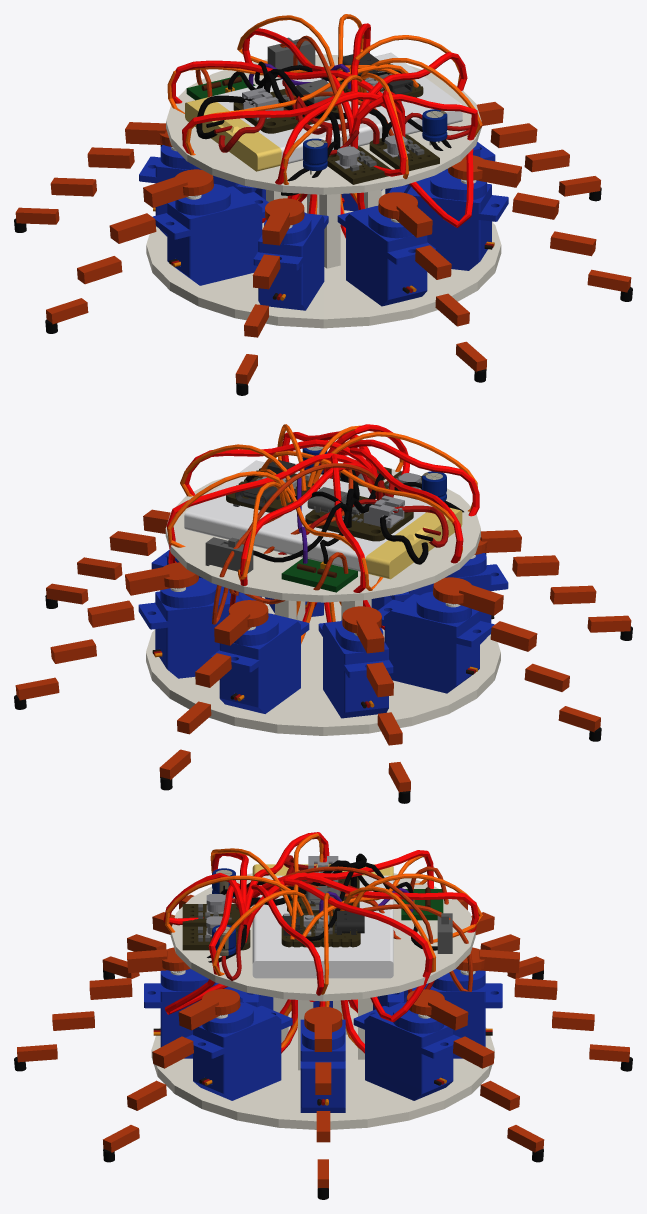
The model's file is octo-v10.glb.
3 renders of one model, top to bottom at view 1: azimuth 30°, elevation 25°; view 2: azimuth 150°, elevation 25°; view 3: azimuth 270°, elevation 25°, orthographic. The views are drawn at different scales.
Visible parts, largest first — view 1: v10 紧凑骨架 (×3), 导线（35 根） (×18), 6 号触手舵机 SG51R, 4 号触手舵机 SG51R, 1200 mAh 单节 LiPo（Adafruit 258）, 3 号触手舵机 SG51R, 5 号触手舵机 SG51R, 6 号短触手 (×5), 4 号短触手 (×5), 3 号短触手 (×4), 7 号短触手 (×4), 5 号短触手 (×4) (+10 smaller); view 2: v10 紧凑骨架 (×2), 导线（35 根） (×19), 1200 mAh 单节 LiPo（Adafruit 258）, 6 号触手舵机 SG51R, 0 号触手舵机 SG51R, 1 号触手舵机 SG51R, 7 号触手舵机 SG51R, 6 号短触手 (×5), 1 号短触手 (×5), 0 号短触手 (×5), 5 号短触手 (×4), 2 号短触手 (×4) (+7 smaller); view 3: v10 紧凑骨架 (×2), 导线（35 根） (×17), 3 号触手舵机 SG51R, 1200 mAh 单节 LiPo（Adafruit 258）, 1 号触手舵机 SG51R, 3 号短触手 (×5), 1 号短触手 (×5), 0 号短触手 (×4), 4 号短触手 (×4), 0 号触手舵机 SG51R, 2 号触手舵机 SG51R, 4 号触手舵机 SG51R (+9 smaller).
Boxes of the visible parts, x1,y1,x2,y2 form: v10 紧凑骨架 (×3): (146,54,501,328); 导线（35 根） (×18): (167,15,482,238); 6 号触手舵机 SG51R: (152,184,268,285); 4 号触手舵机 SG51R: (337,206,435,306); 1200 mAh 单节 LiPo（Adafruit 258）: (185,52,462,171); 3 号触手舵机 SG51R: (389,170,508,270); 5 号触手舵机 SG51R: (253,212,328,310); 6 号短触手 (×5): (46,169,213,324); 4 号短触手 (×5): (378,192,486,372); 3 号短触手 (×4): (476,159,631,292); 7 号短触手 (×4): (15,122,166,224); 5 号短触手 (×4): (244,198,304,337); v10 紧凑骨架 (×2): (146,463,500,735); 导线（35 根） (×19): (166,424,479,643); 1200 mAh 单节 LiPo（Adafruit 258）: (184,460,462,579); 6 号触手舵机 SG51R: (378,591,494,693); 0 号触手舵机 SG51R: (211,613,309,713); 1 号触手舵机 SG51R: (138,578,255,678); 7 号触手舵机 SG51R: (318,620,393,718); 6 号短触手 (×5): (433,577,600,732); 1 号短触手 (×5): (15,562,198,700); 0 号短触手 (×5): (159,600,268,780); 5 号短触手 (×4): (480,530,631,632); 2 号短触手 (×4): (46,509,170,604); v10 紧凑骨架 (×2): (151,873,494,1129); 导线（35 根） (×17): (163,832,482,1053); 3 号触手舵机 SG51R: (185,1002,292,1100); 1200 mAh 单节 LiPo（Adafruit 258）: (252,863,393,978); 1 号触手舵机 SG51R: (353,1002,460,1100); 3 号短触手 (×5): (103,989,240,1152); 1 号短触手 (×5): (406,989,544,1152); 0 号短触手 (×4): (479,949,629,1062); 4 号短触手 (×4): (17,949,167,1062); 0 号触手舵机 SG51R: (387,969,502,1058); 2 号触手舵机 SG51R: (300,1019,345,1112); 4 号触手舵机 SG51R: (144,968,258,1058).
Bounding box in the file's own units: 0.1624 × 0.0608 × 0.1624.
